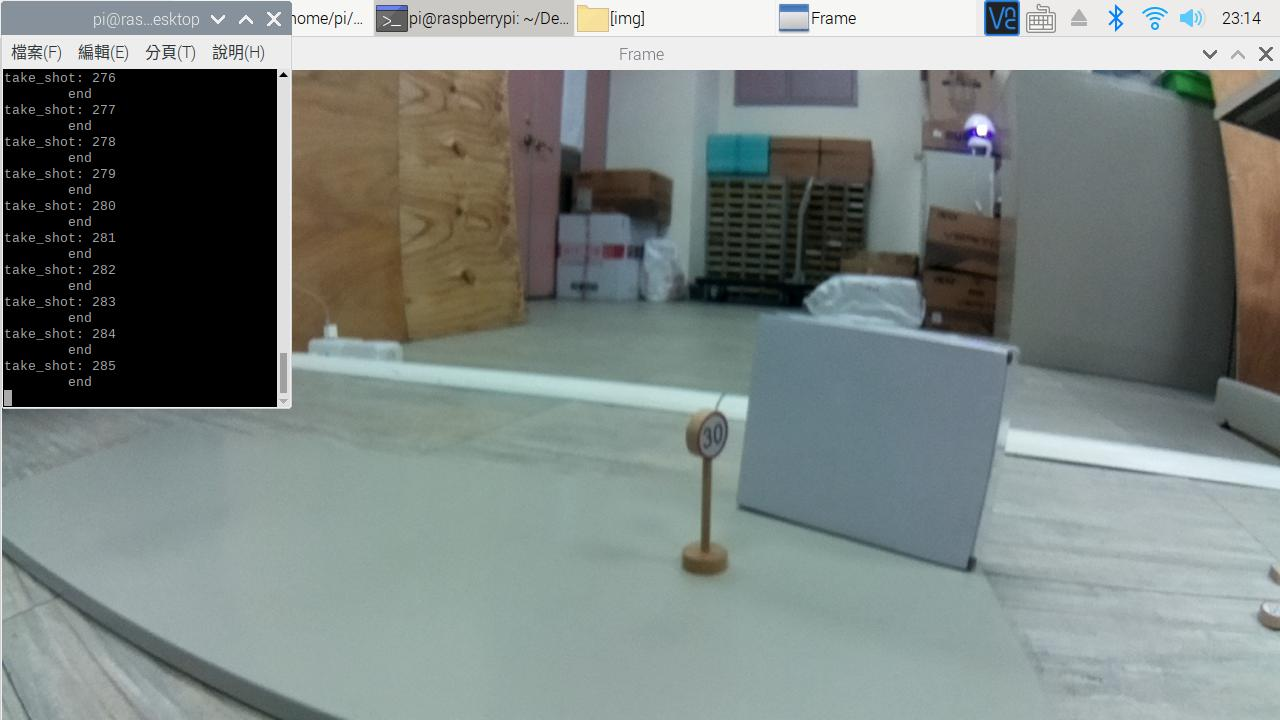Speed30: (668, 401, 753, 473)
